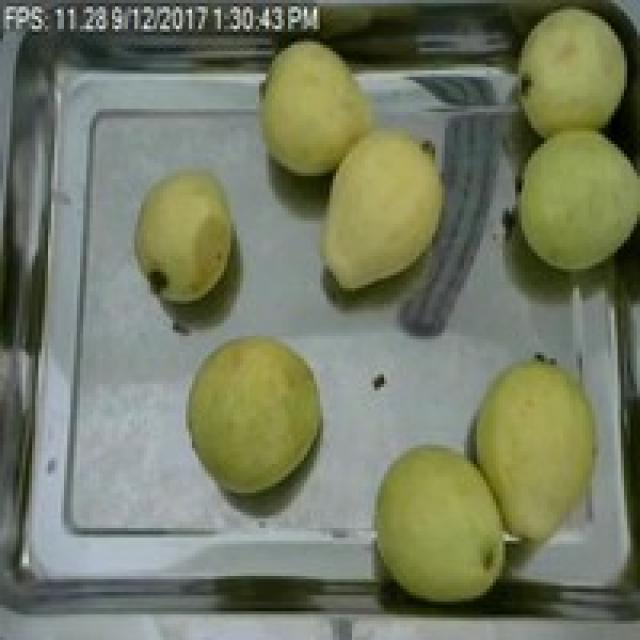Fruit: (458, 340, 630, 550), (304, 109, 474, 304), (362, 435, 524, 611), (179, 326, 333, 499), (250, 25, 403, 188), (496, 112, 640, 285), (499, 0, 640, 163), (128, 160, 243, 314)
